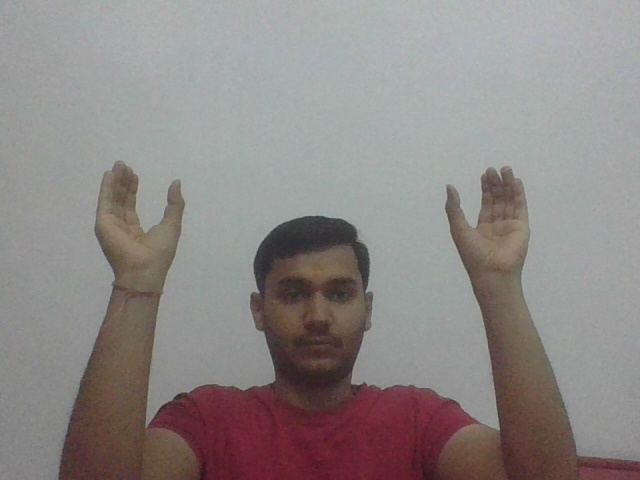U: (440, 162, 537, 284), (91, 159, 189, 278)
